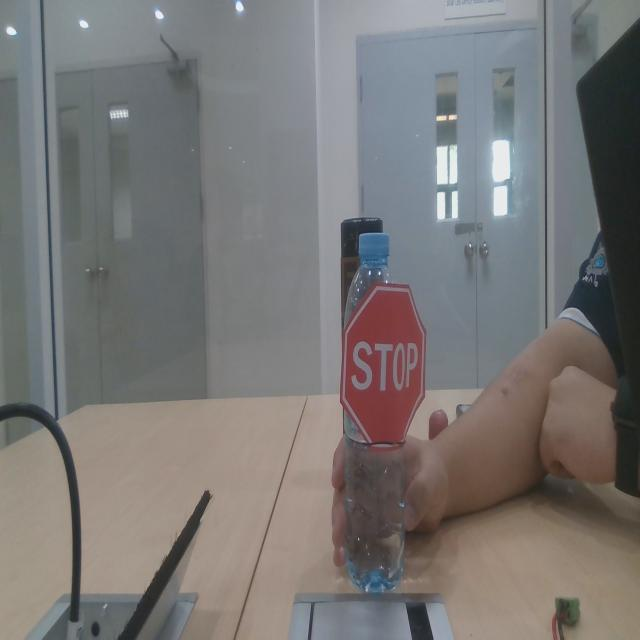Stop: (340, 284, 429, 448)
